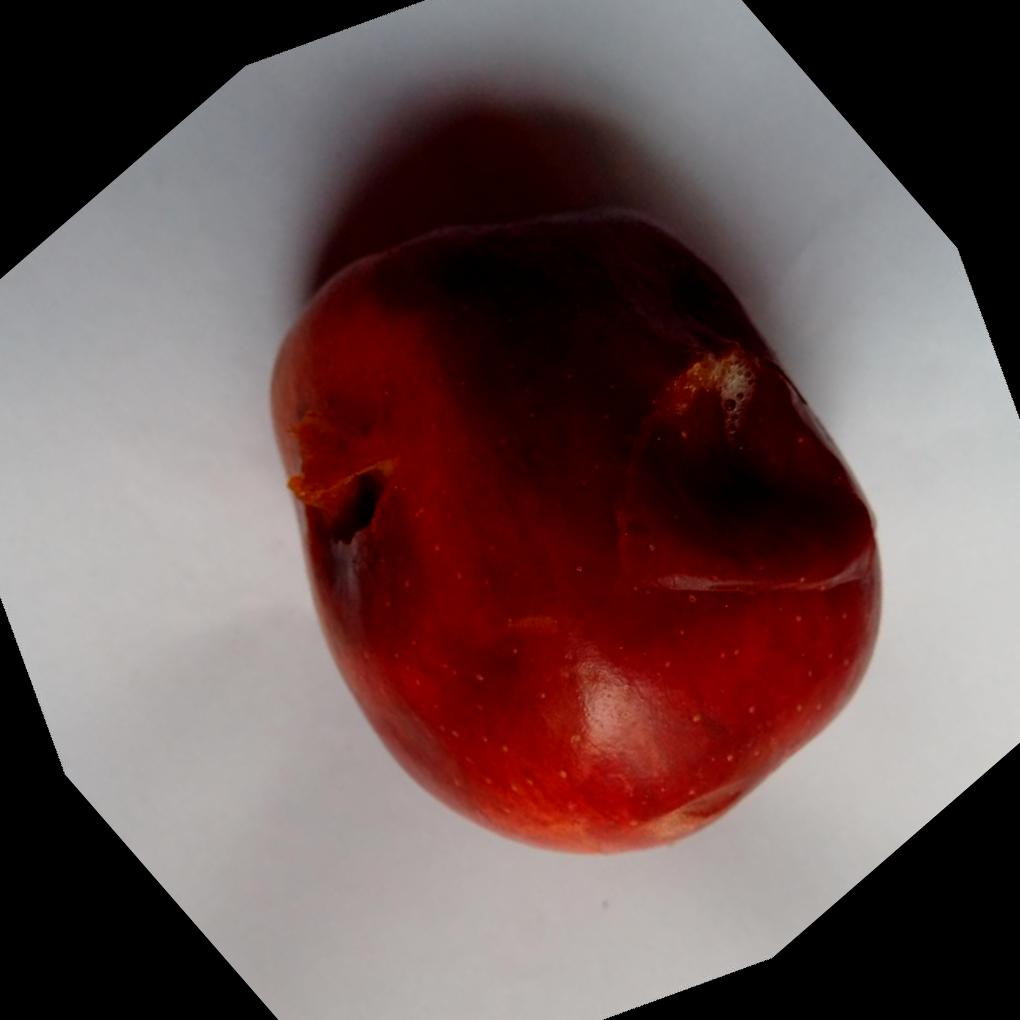FreshOrange: (264, 199, 882, 856)
